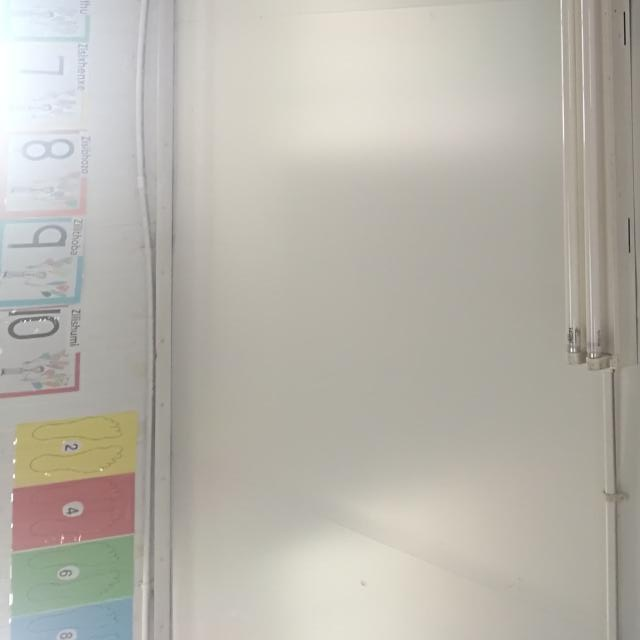fluorescent tube: (534, 0, 640, 383)
